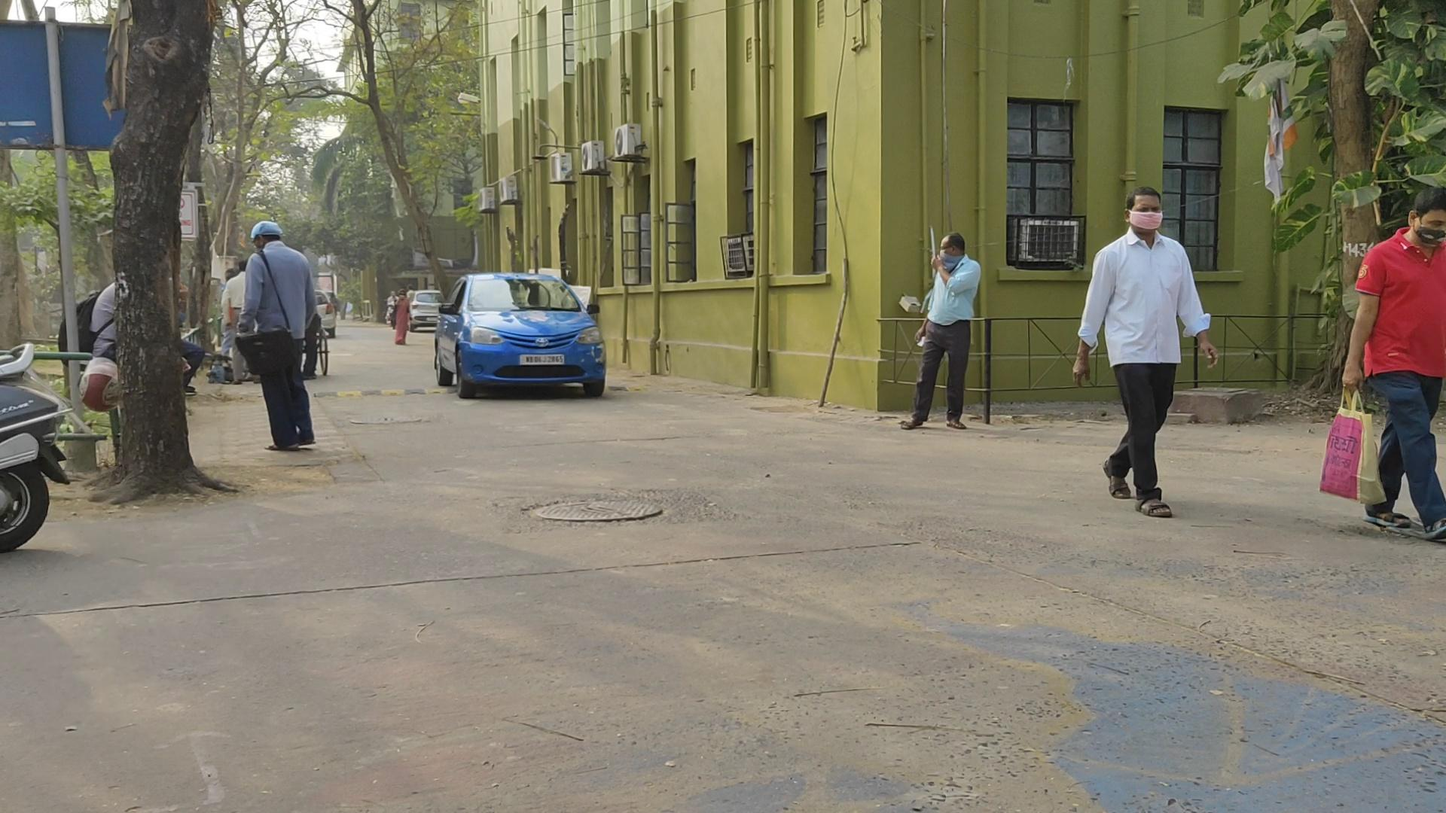car: (434, 273, 606, 399), (404, 289, 444, 332)
